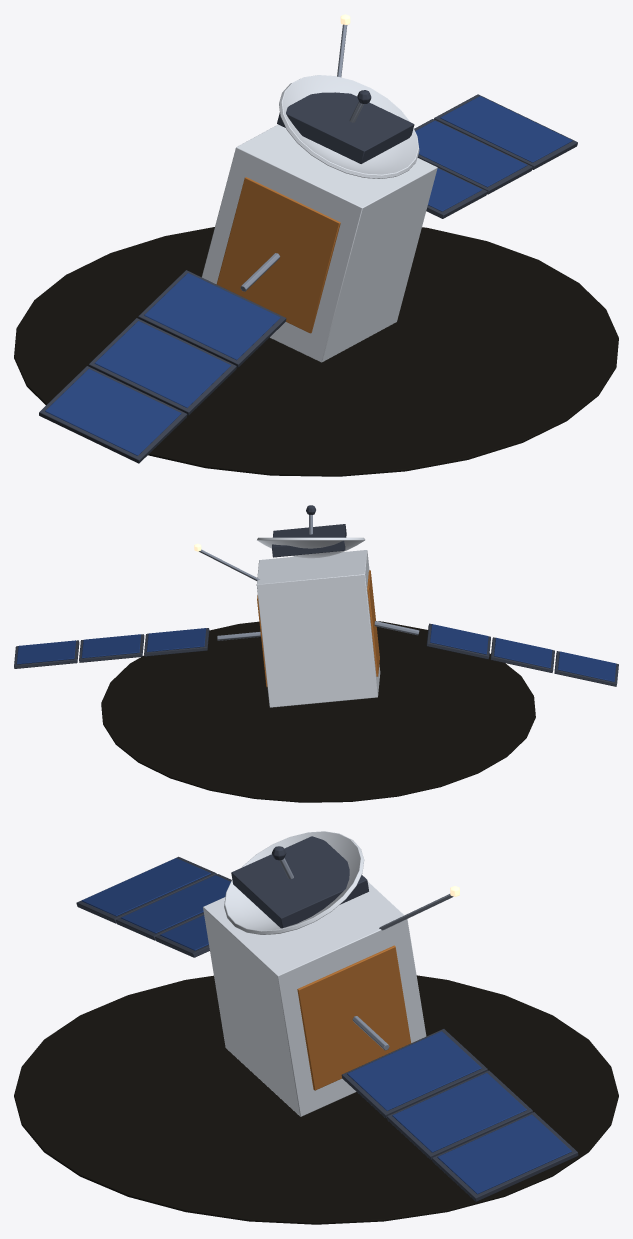
The model's file is wrack_satellit.fbx.
3 views of the same model, one above another, from view 1: azimuth 30°, elevation 25°; view 2: azimuth 150°, elevation 25°; view 3: azimuth 270°, elevation 25° (orthographic). The views are drawn at different scales.
Parts seen in each view (by area): view 1: wrack_satellit_Koerper; view 2: wrack_satellit_Koerper; view 3: wrack_satellit_Koerper.
Boxes of the visible parts, x1=… form: wrack_satellit_Koerper: x1=14, y1=14, x2=618, y2=476; wrack_satellit_Koerper: x1=14, y1=505, x2=618, y2=802; wrack_satellit_Koerper: x1=14, y1=831, x2=618, y2=1224.
Size of the model in its own units: 6.28 by 2.32 by 4.8.
